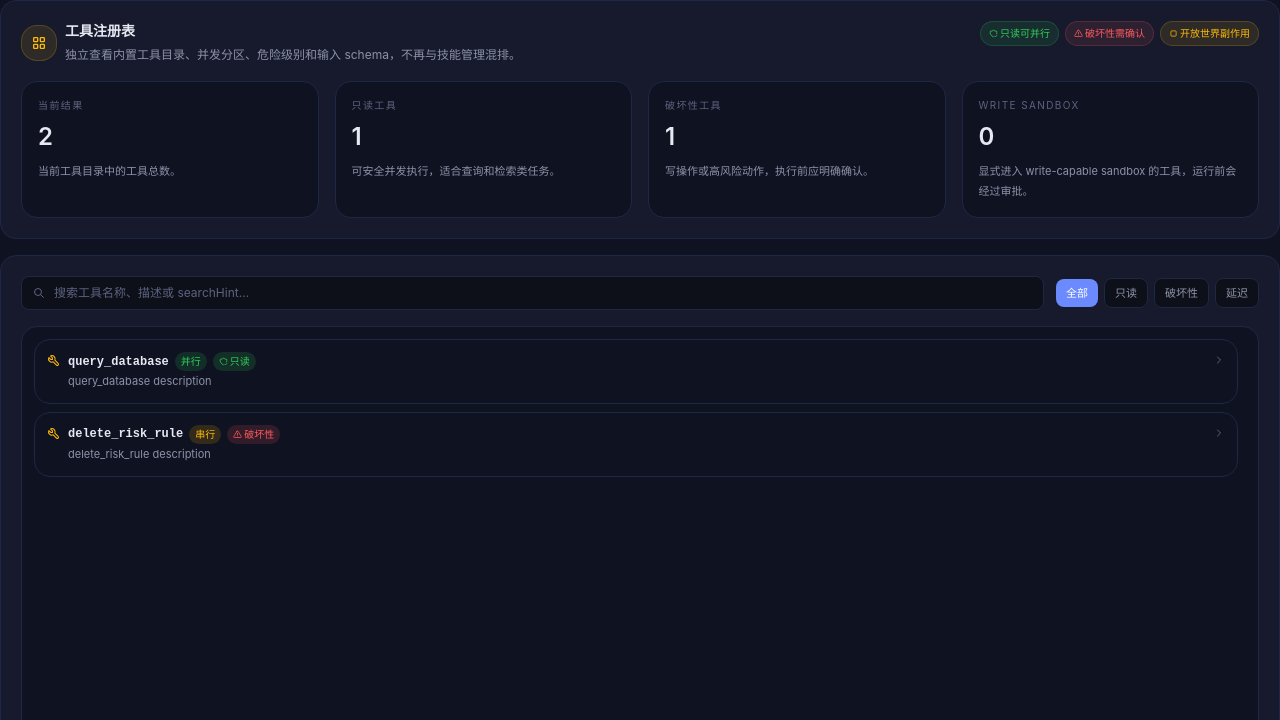
Test: Skills and tools workbenches › shows the search empty state when readonly filtering removes the remaining results
Check: the text "query_database" is shown, box [68,354,169,370]
Type "delete" into the field with placeholder "搜索工具名称、描述或 searchHint…" at (532, 293), box [21,276,1044,310]
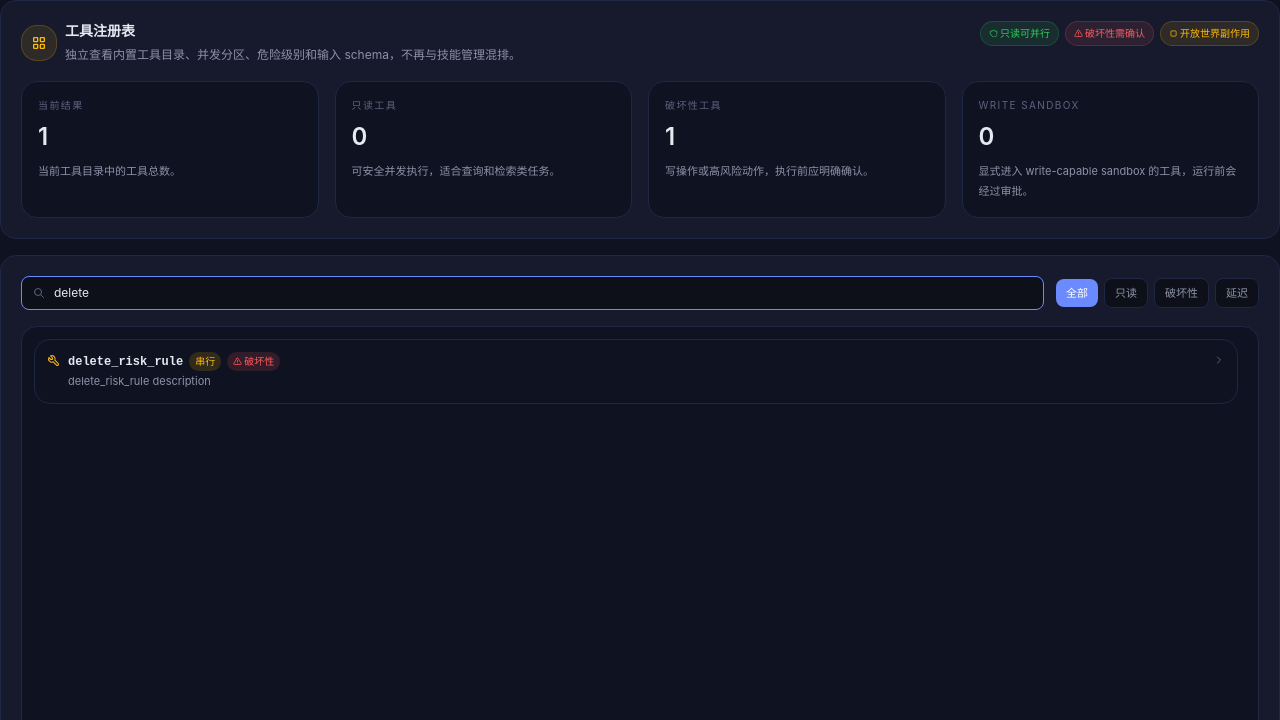
Click the button "只读" at (1126, 293), box [1104,278,1148,308]
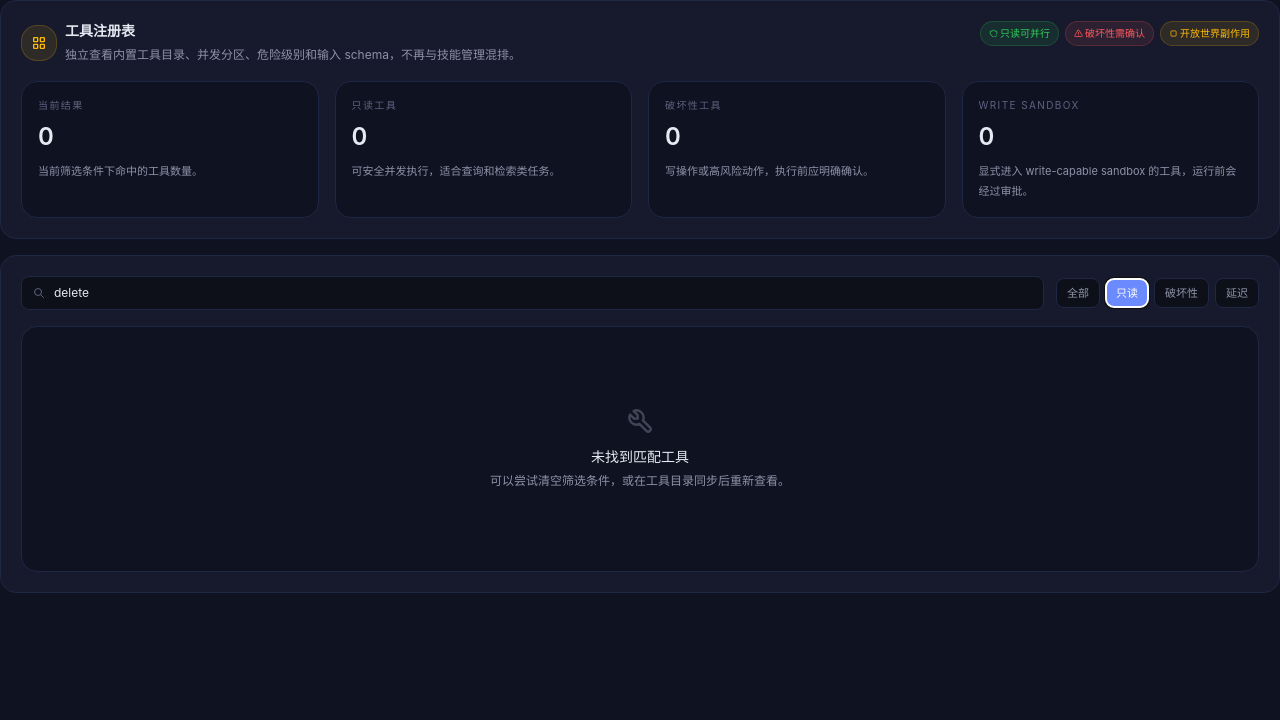
Check: the text "未找到匹配工具" is shown, box [591,447,689,467]
